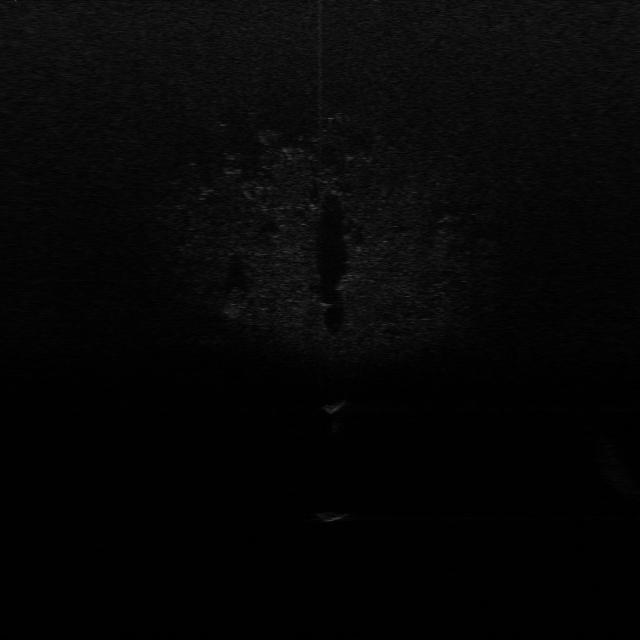cube: (309, 497, 362, 525)
square cage: (314, 394, 354, 420)
